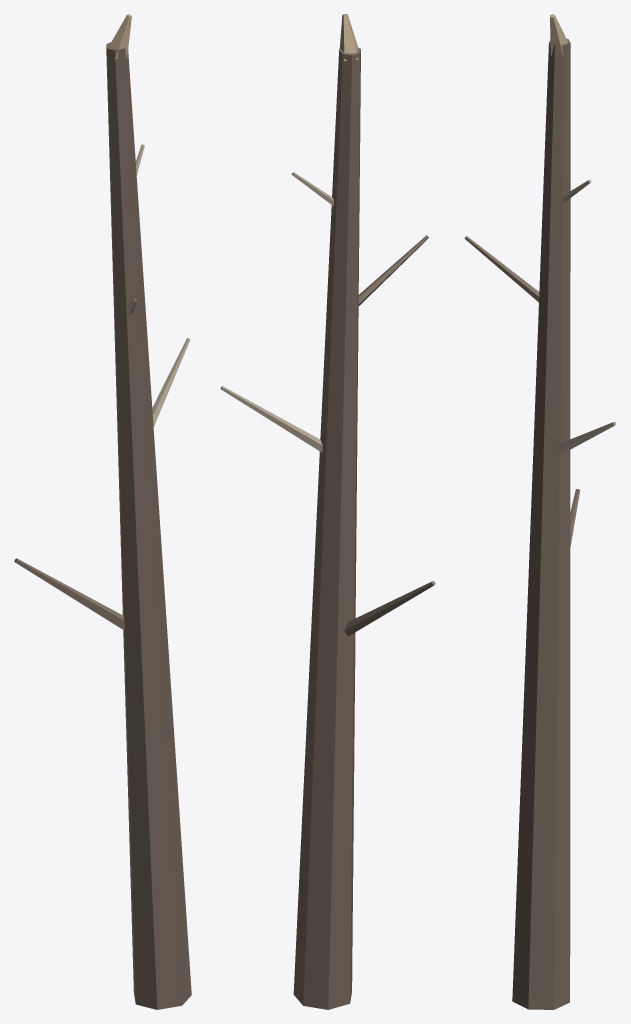
File: dead_tree_02.glb
3 renders of one model, left to right at view 1: azimuth 30°, elevation 25°; view 2: azimuth 150°, elevation 25°; view 3: azimuth 270°, elevation 25°, orthographic. The views are drawn at different scales.
Visible parts, largest first — view 1: dead_tree_02_trunk, dead_tree_02_branch_1, dead_tree_02_branch_2, dead_tree_02_broken_tip; view 2: dead_tree_02_trunk, dead_tree_02_branch_1, dead_tree_02_branch_2, dead_tree_02_branch_3, dead_tree_02_broken_tip; view 3: dead_tree_02_trunk, dead_tree_02_branch_3, dead_tree_02_branch_2, dead_tree_02_broken_tip.
Part boxes in pixels (box(x1,y1,x2,y2)): dead_tree_02_trunk: box(106, 42, 191, 1009); dead_tree_02_branch_1: box(14, 558, 124, 629); dead_tree_02_branch_2: box(152, 338, 190, 426); dead_tree_02_broken_tip: box(106, 14, 131, 58); dead_tree_02_trunk: box(293, 47, 360, 1009); dead_tree_02_branch_1: box(344, 581, 435, 636); dead_tree_02_branch_2: box(220, 386, 322, 452); dead_tree_02_branch_3: box(358, 235, 428, 305); dead_tree_02_broken_tip: box(339, 14, 361, 61); dead_tree_02_trunk: box(512, 39, 570, 1009); dead_tree_02_branch_3: box(464, 236, 539, 302); dead_tree_02_branch_2: box(556, 422, 616, 454); dead_tree_02_broken_tip: box(550, 14, 570, 56).
Size of the model in its own units: 1.19 by 5.79 by 0.8206.
